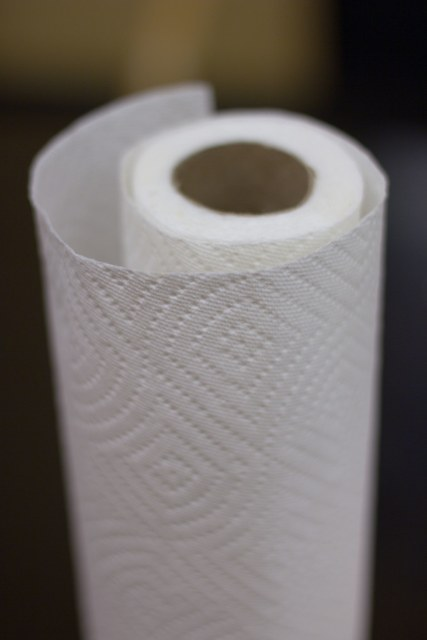toilet_paper: (27, 80, 389, 639)
